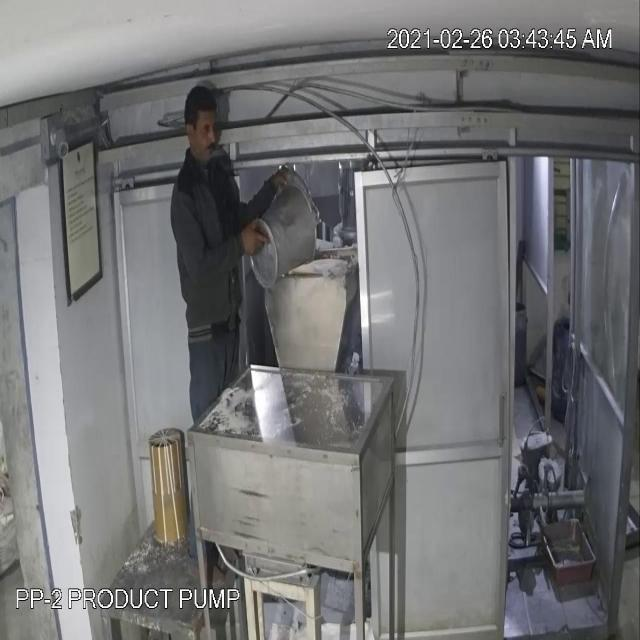no hat: (179, 77, 221, 166)
